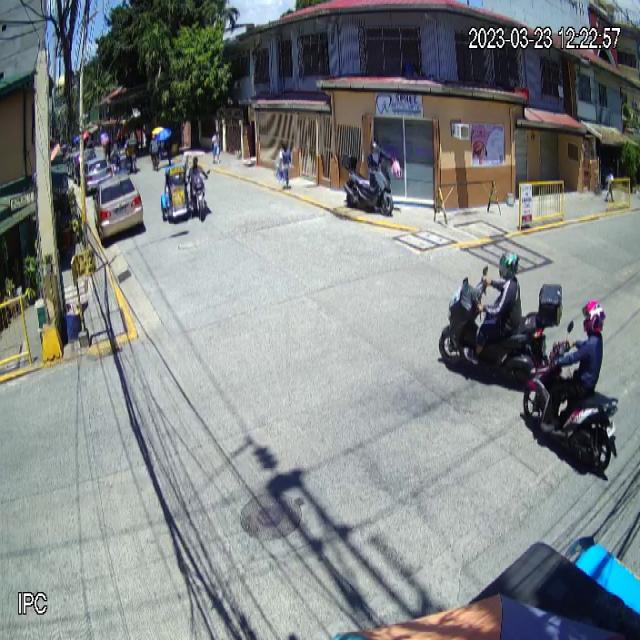Motorcycle: (436, 264, 564, 384), (522, 321, 621, 472)
Tricycle: (160, 149, 210, 225)
